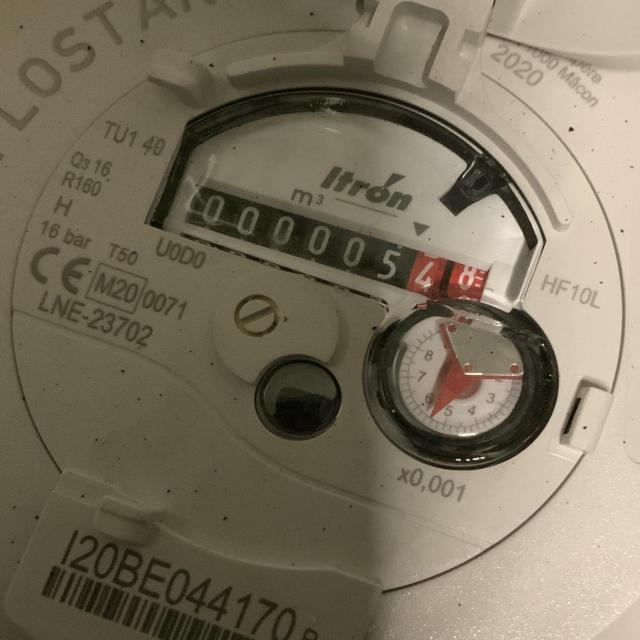gaz_meter: (5, 23, 625, 595)
indication: (184, 175, 499, 309)
